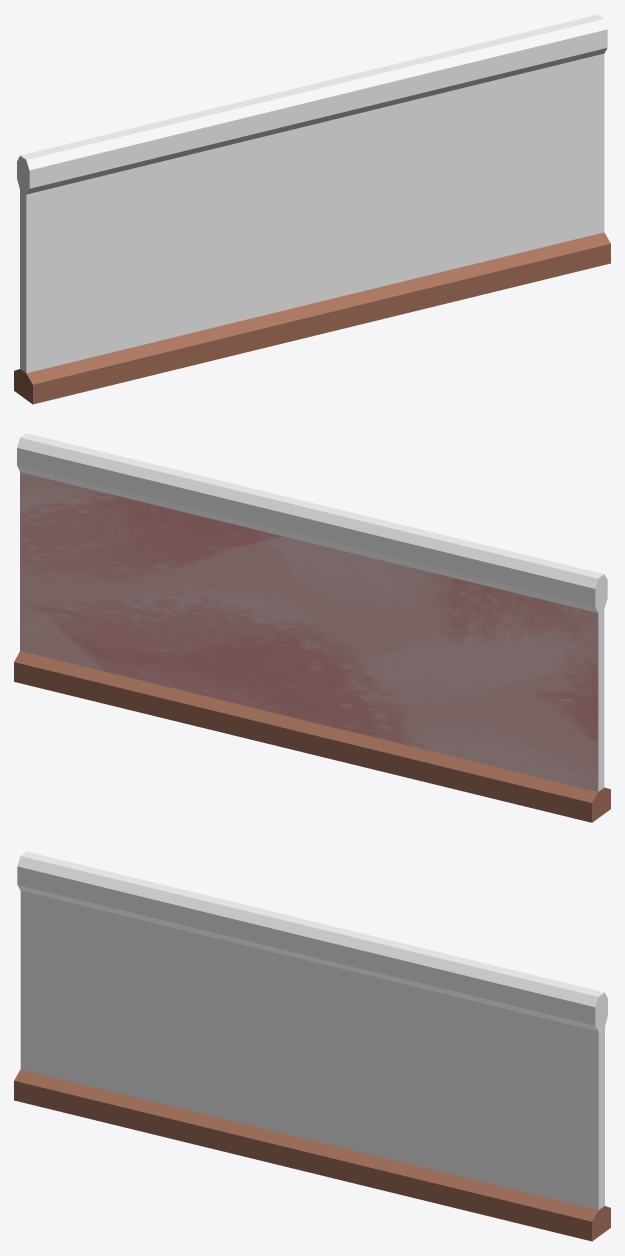
The model's file is outdoorWall.obj.
The picture shows the model from 3 angles, top to bottom: view 1: azimuth 30°, elevation 25°; view 2: azimuth 150°, elevation 25°; view 3: azimuth 330°, elevation 25°; orthographic projection.
Visible parts, largest first — view 1: pCube38; view 2: pCube38; view 3: pCube38.
Part boxes in pixels (left/top/right/bottom): pCube38: left=14, top=14, right=610, bottom=404; pCube38: left=14, top=433, right=610, bottom=822; pCube38: left=14, top=851, right=610, bottom=1241.
Size of the model in its own units: 9.87 by 3.91 by 0.5574.
